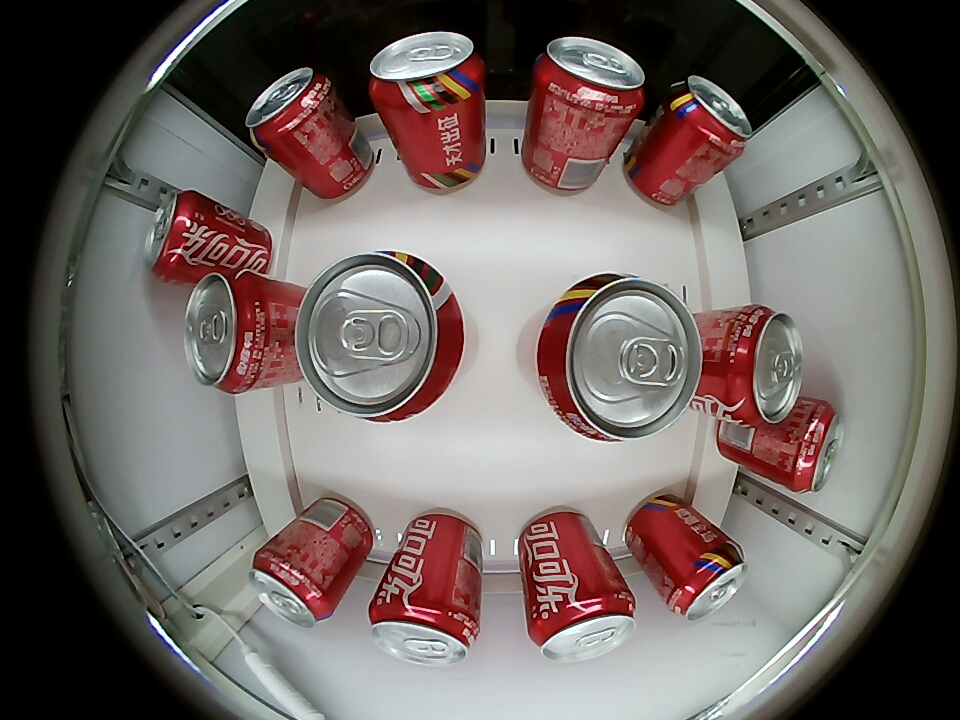kele: (294, 250, 465, 423), (536, 274, 704, 442), (184, 272, 270, 394), (724, 304, 804, 427), (369, 31, 485, 110), (535, 37, 646, 116), (367, 596, 479, 667), (530, 590, 637, 663), (244, 67, 335, 147), (666, 75, 752, 157), (248, 547, 334, 627), (665, 540, 748, 621), (782, 400, 843, 494), (143, 189, 206, 280)
